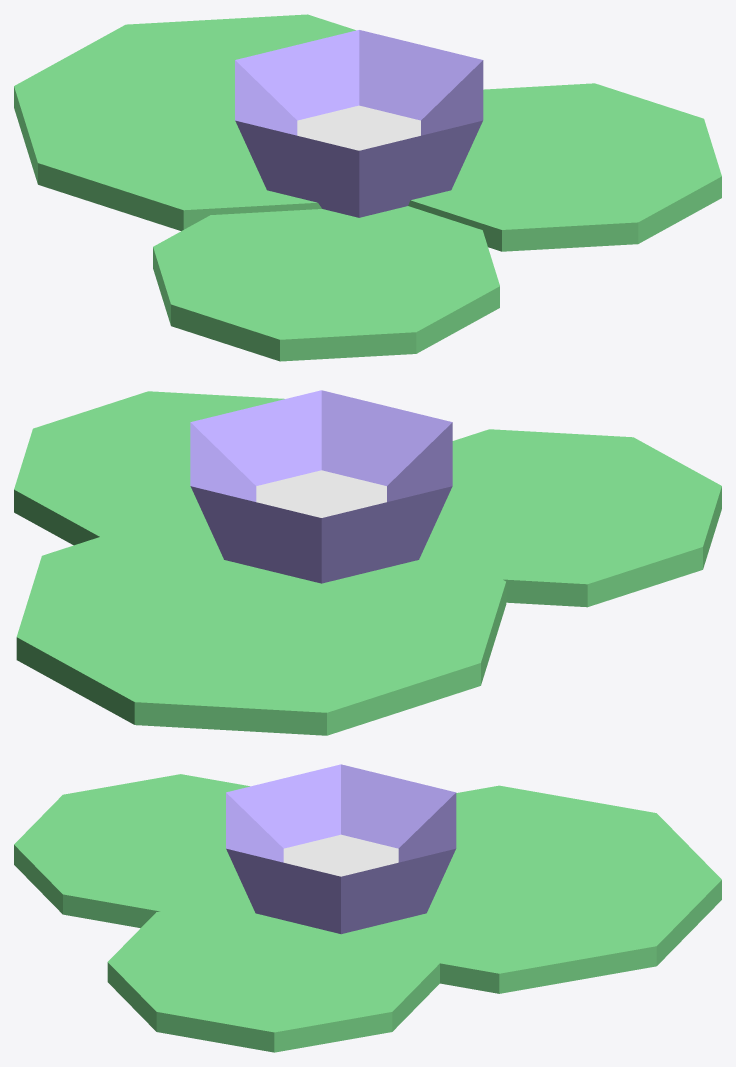
File: 12_waterLily.fbx
3 views of the same model, one above another, from view 1: azimuth 30°, elevation 25°; view 2: azimuth 150°, elevation 25°; view 3: azimuth 270°, elevation 25° (orthographic). The views are drawn at different scales.
Parts seen in each view (by area): view 1: flower_purpleC1; view 2: flower_purpleC1; view 3: flower_purpleC1.
Part boxes in pixels (x1,y1,x2,y2): flower_purpleC1: (14,14,721,361); flower_purpleC1: (14,390,721,735); flower_purpleC1: (14,764,721,1052).
Bounding box in the file's own units: 3.36 × 0.5821 × 3.81.
